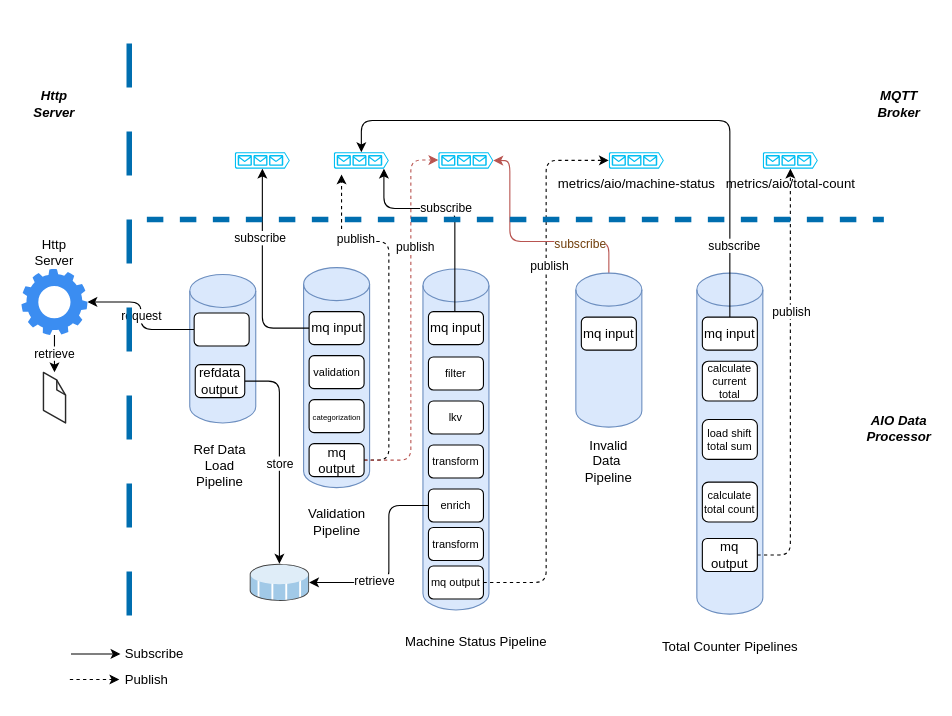
This 952x716 diagram has some shape labels left out. The centre of each missing label's shape, as x and y in pixels:
"http input" belongs at point (221, 329).
"Ref Data file" belongs at point (54, 397).
"Ref data store" belongs at point (279, 582).
"zurich/dead-letter" belongs at point (465, 160).
"zurich/input" belongs at point (261, 160).
"zurich/input/valid" belongs at point (360, 160).
